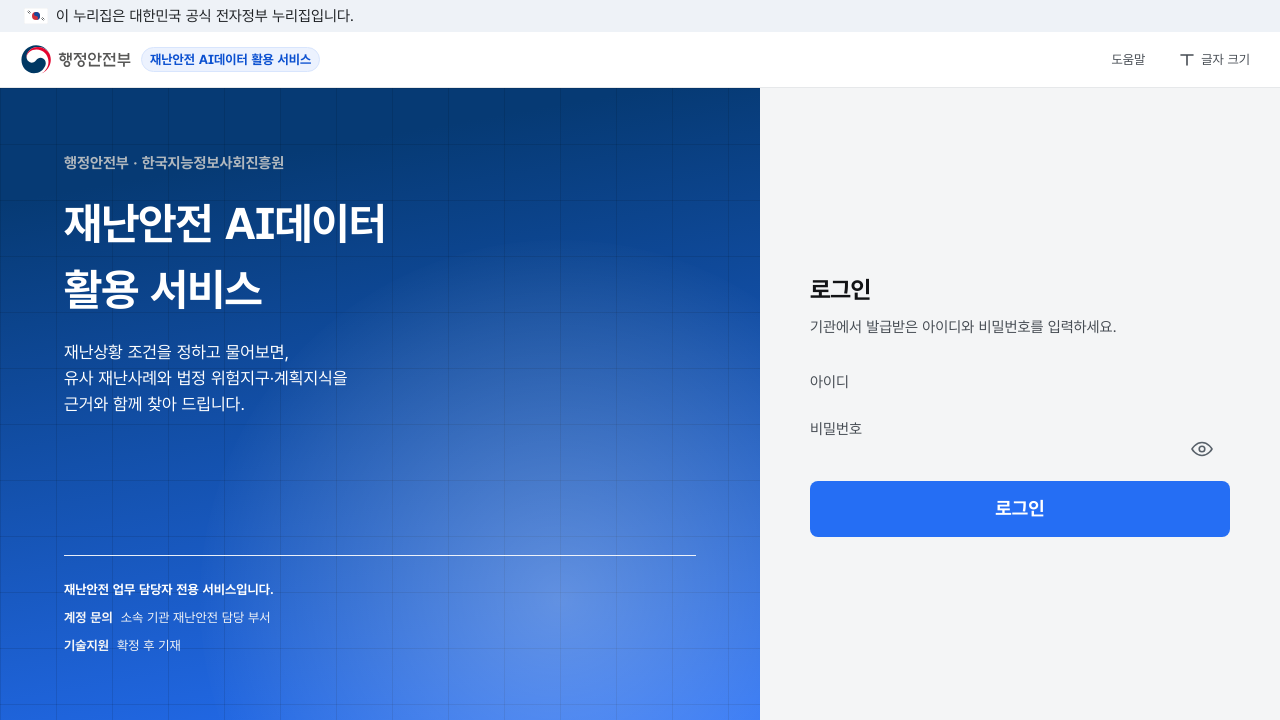
Test: ① 로그인 화면(개발서버 LoginPage) › 통신 실패는 「로그인하지 못했습니다.」
This screenshot has width=1280, height=720.
Click the button "로그인": [1020, 508] box [810,480,1230,536]
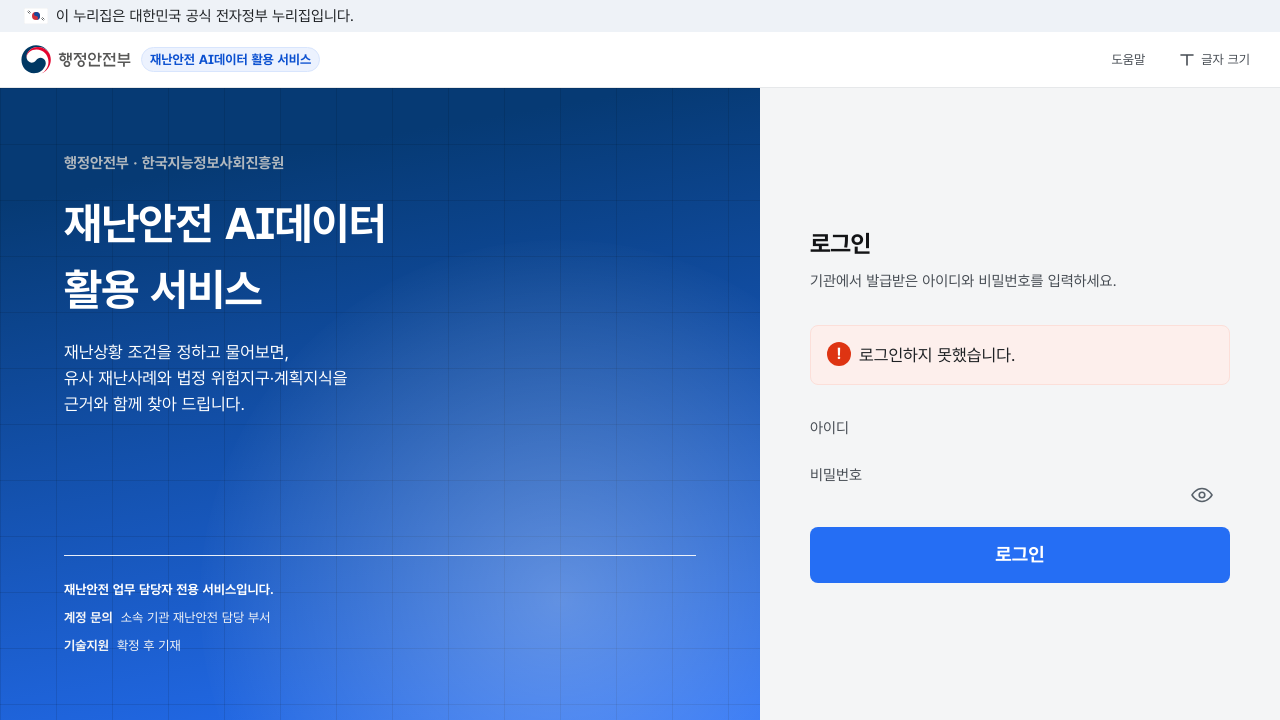
Expected: the message shows "로그인하지 못했습니다.", [859,344,1016,364]
